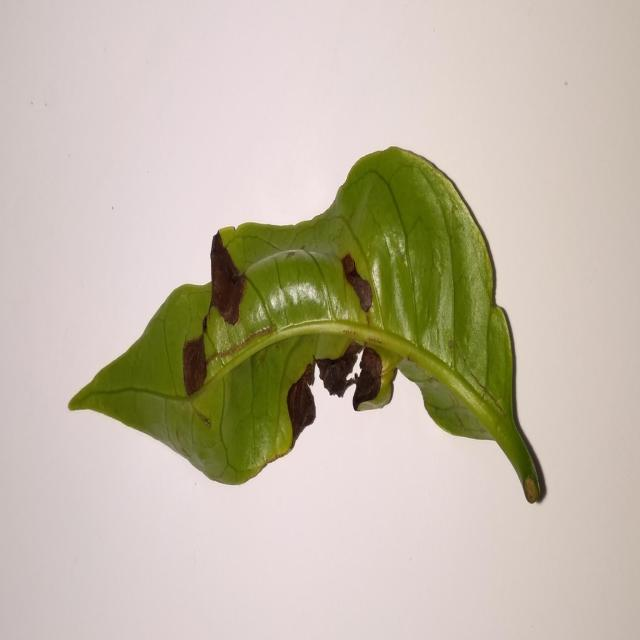Enfermedad-Antracnosis: (68, 148, 548, 506)
